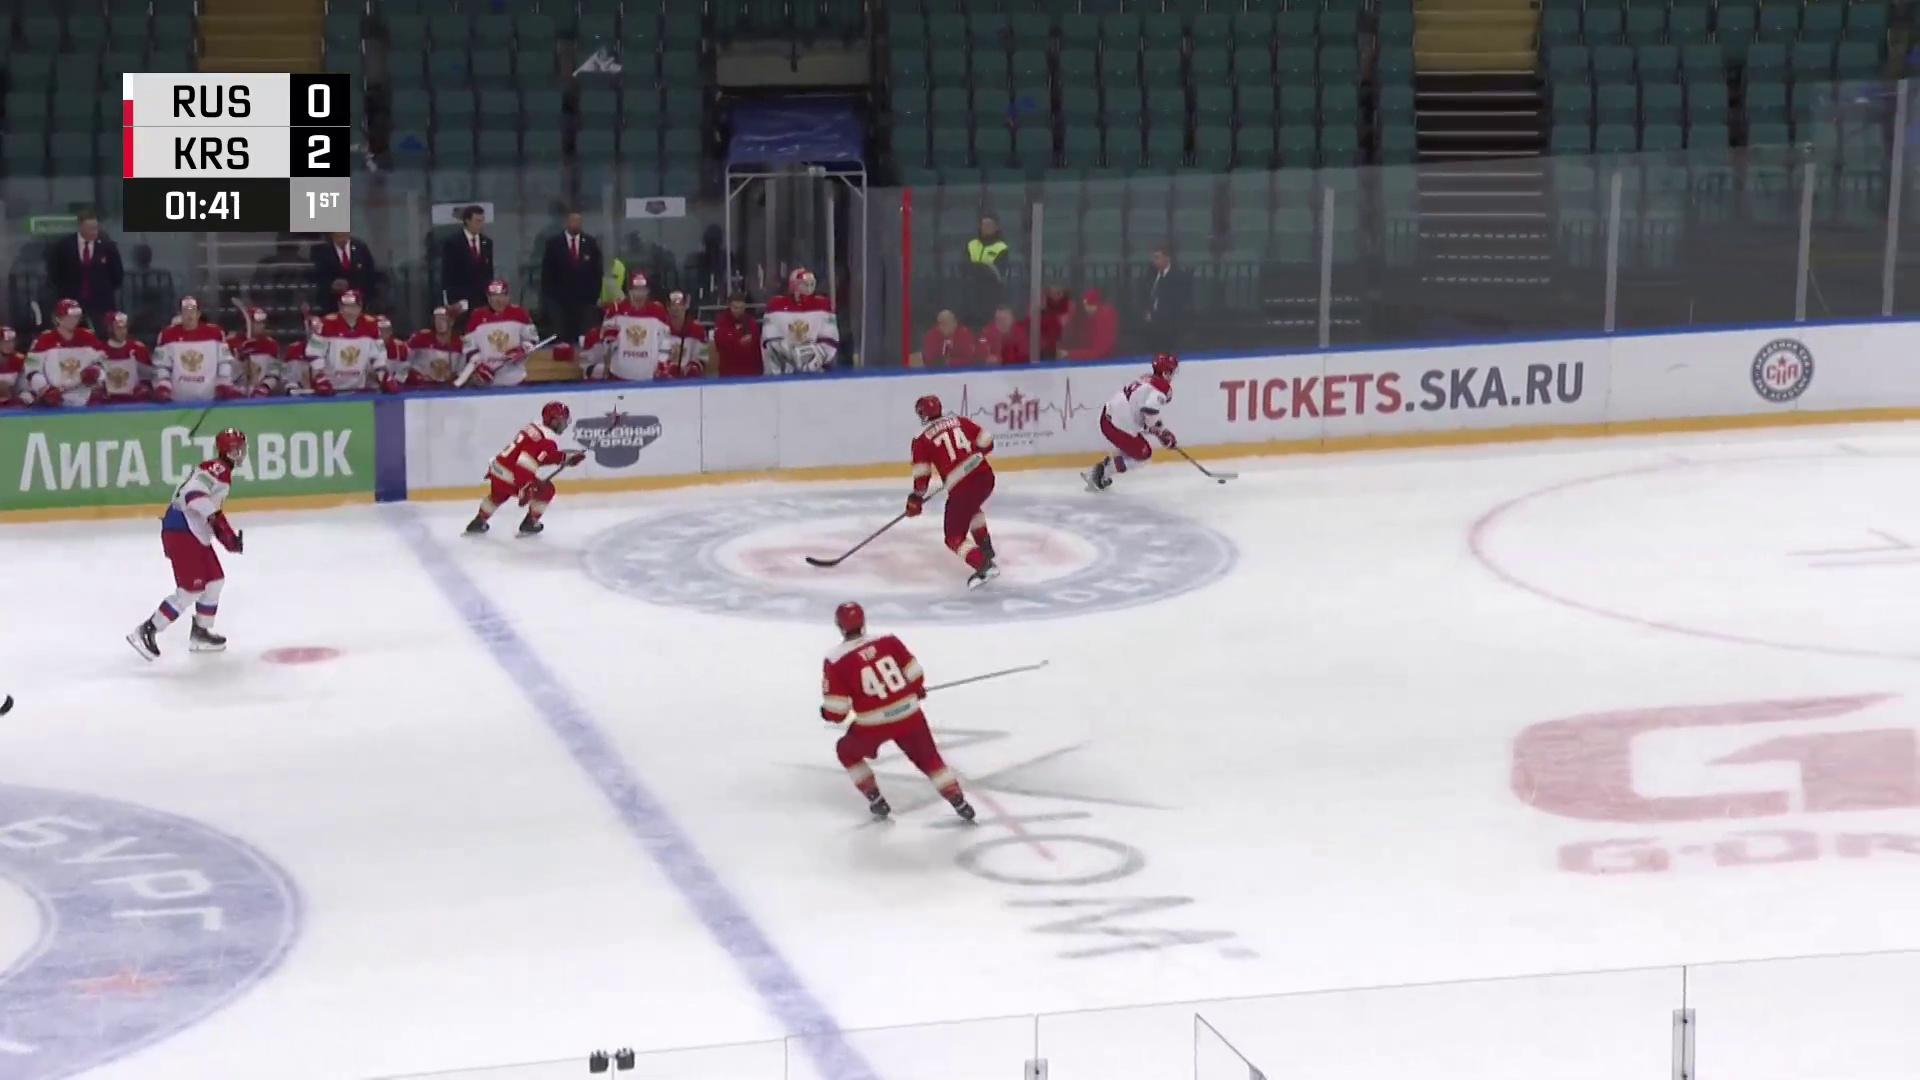ball: (1217, 479, 1228, 487)
